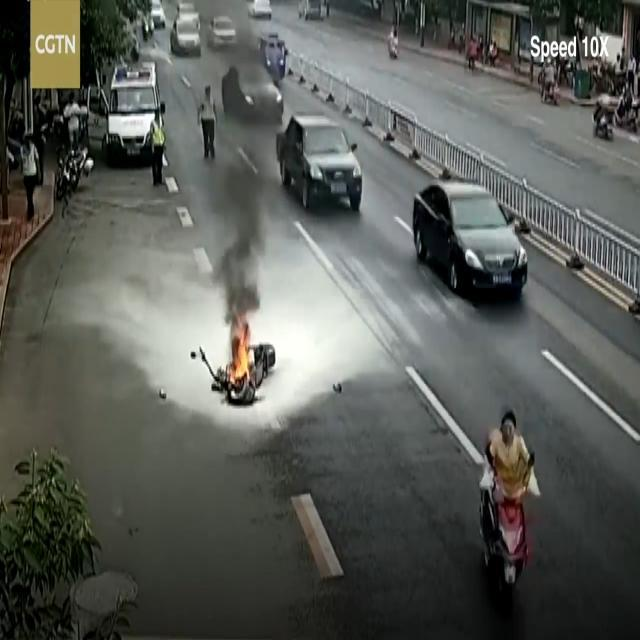Fire: (228, 320, 254, 385)
Smoke: (216, 152, 266, 322)
